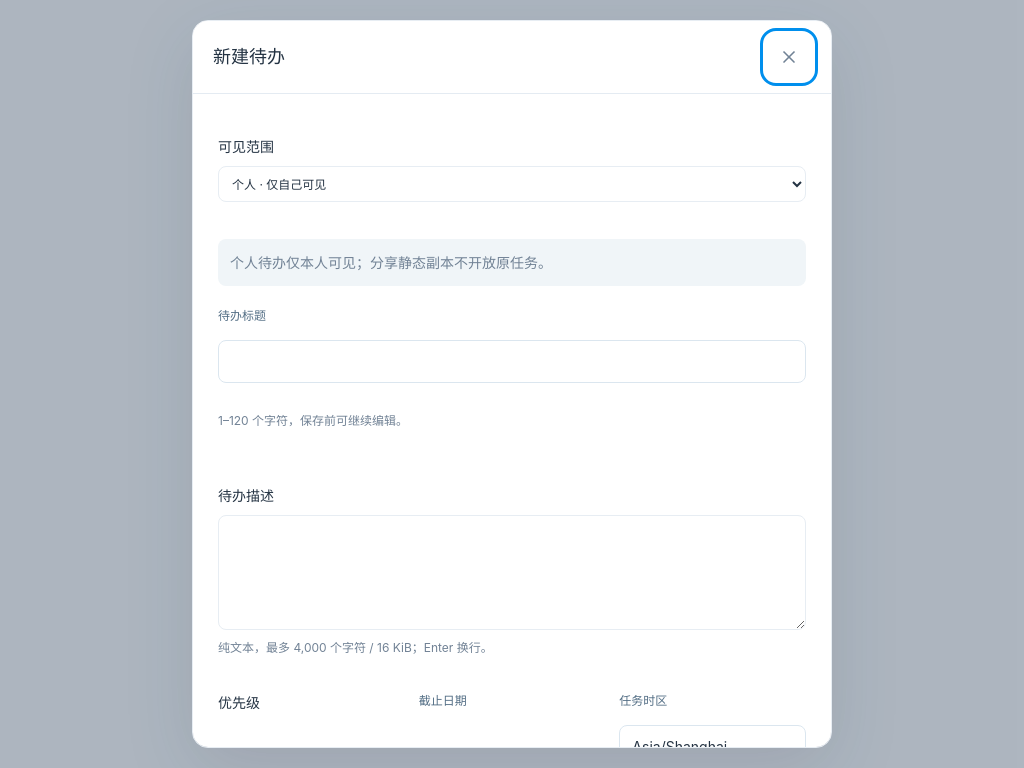
Test: task form commands and explicit recovery › keeps the command key and exact payload on unknown create retry without auto sharing
The image size is (1024, 768).
Type "写周报" into the field labelled "待办标题". click: [512, 362]
box: 218,340 -> 806,383
(page scrolled)
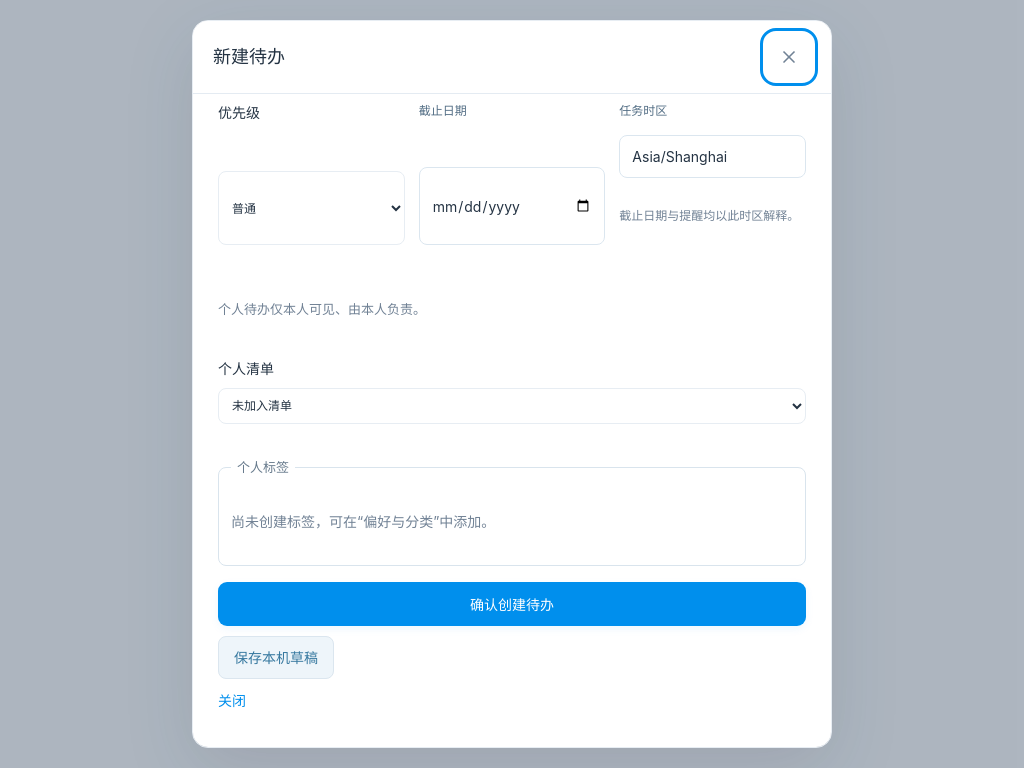
Click the button "确认创建待办". click: [512, 604]
box: 218,582 -> 806,626
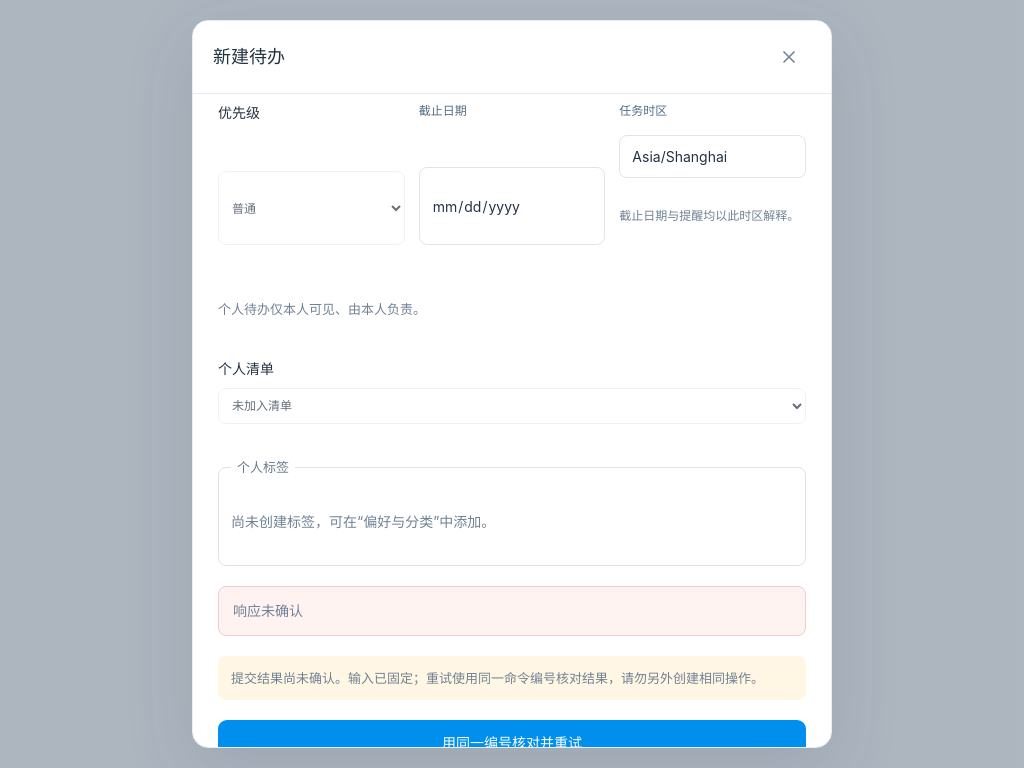
Now the button "用同一编号核对并重试" is shown, box 218,720 -> 806,748
Click the button "用同一编号核对并重试". click: [512, 742]
box: 218,720 -> 806,764
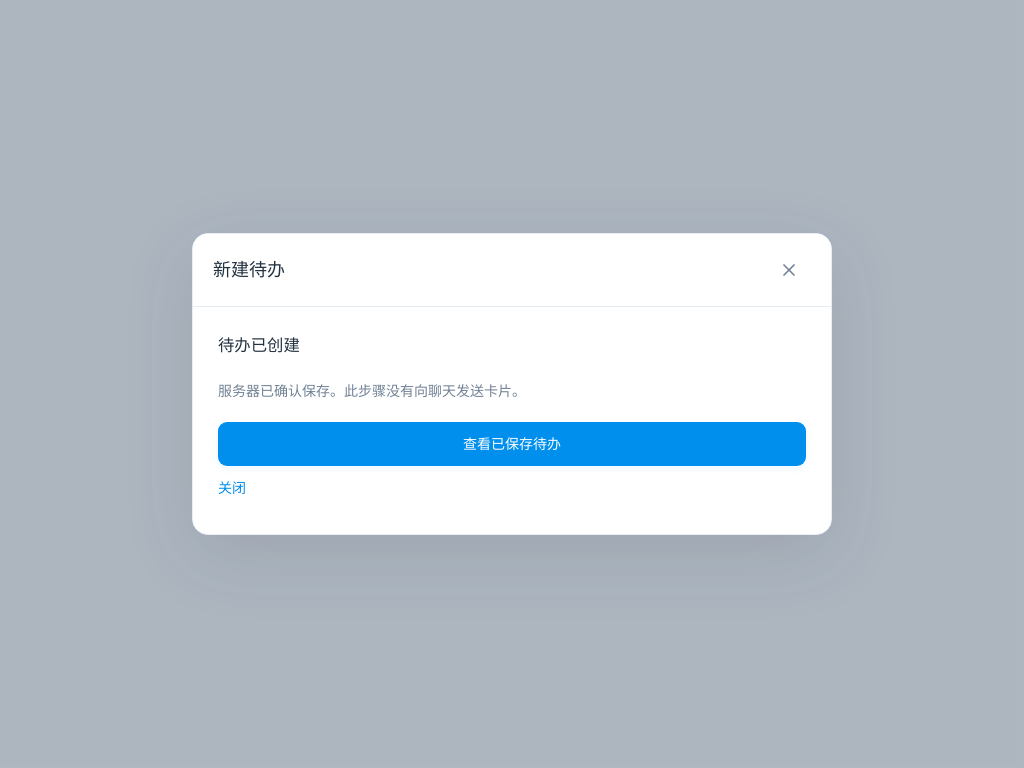
Now the heading "待办已创建" is shown, box 218,335 -> 300,355
